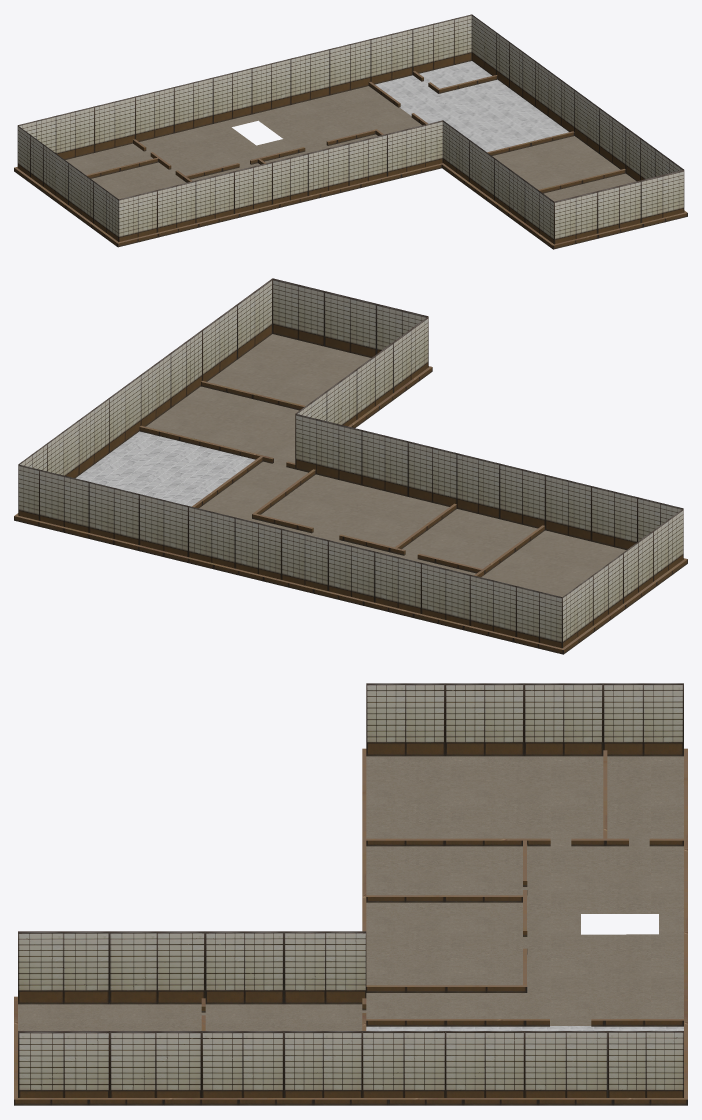
The model's file is rixi_2fban.FBX.
The picture shows the model from 3 angles, top to bottom: view 1: azimuth 30°, elevation 25°; view 2: azimuth 150°, elevation 25°; view 3: azimuth 270°, elevation 25°; orthographic projection. The views are drawn at different scales.
Visible parts, largest first — view 1: Group015, DrawCall_1754, DrawCall_1753; view 2: Group015, DrawCall_1754, DrawCall_1753; view 3: Group015, DrawCall_1754, DrawCall_1753.
Part boxes in pixels (x1=…): Group015: x1=17, y1=14, x2=684, y2=244; DrawCall_1754: x1=65, y1=86, x2=636, y2=201; DrawCall_1753: x1=14, y1=57, x2=687, y2=249; Group015: x1=18, y1=278, x2=683, y2=648; DrawCall_1754: x1=146, y1=334, x2=626, y2=596; DrawCall_1753: x1=14, y1=366, x2=687, y2=654; Group015: x1=18, y1=683, x2=683, y2=1097; DrawCall_1754: x1=18, y1=756, x2=683, y2=1030; DrawCall_1753: x1=14, y1=748, x2=687, y2=1105.
Bounding box in the file's own units: 3200 × 310 × 2596.
